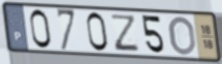0: (85, 11, 110, 52), (29, 8, 53, 50)
5: (140, 14, 166, 55)
7: (56, 8, 78, 52)
O: (168, 15, 198, 57)
Z: (111, 13, 140, 52)
